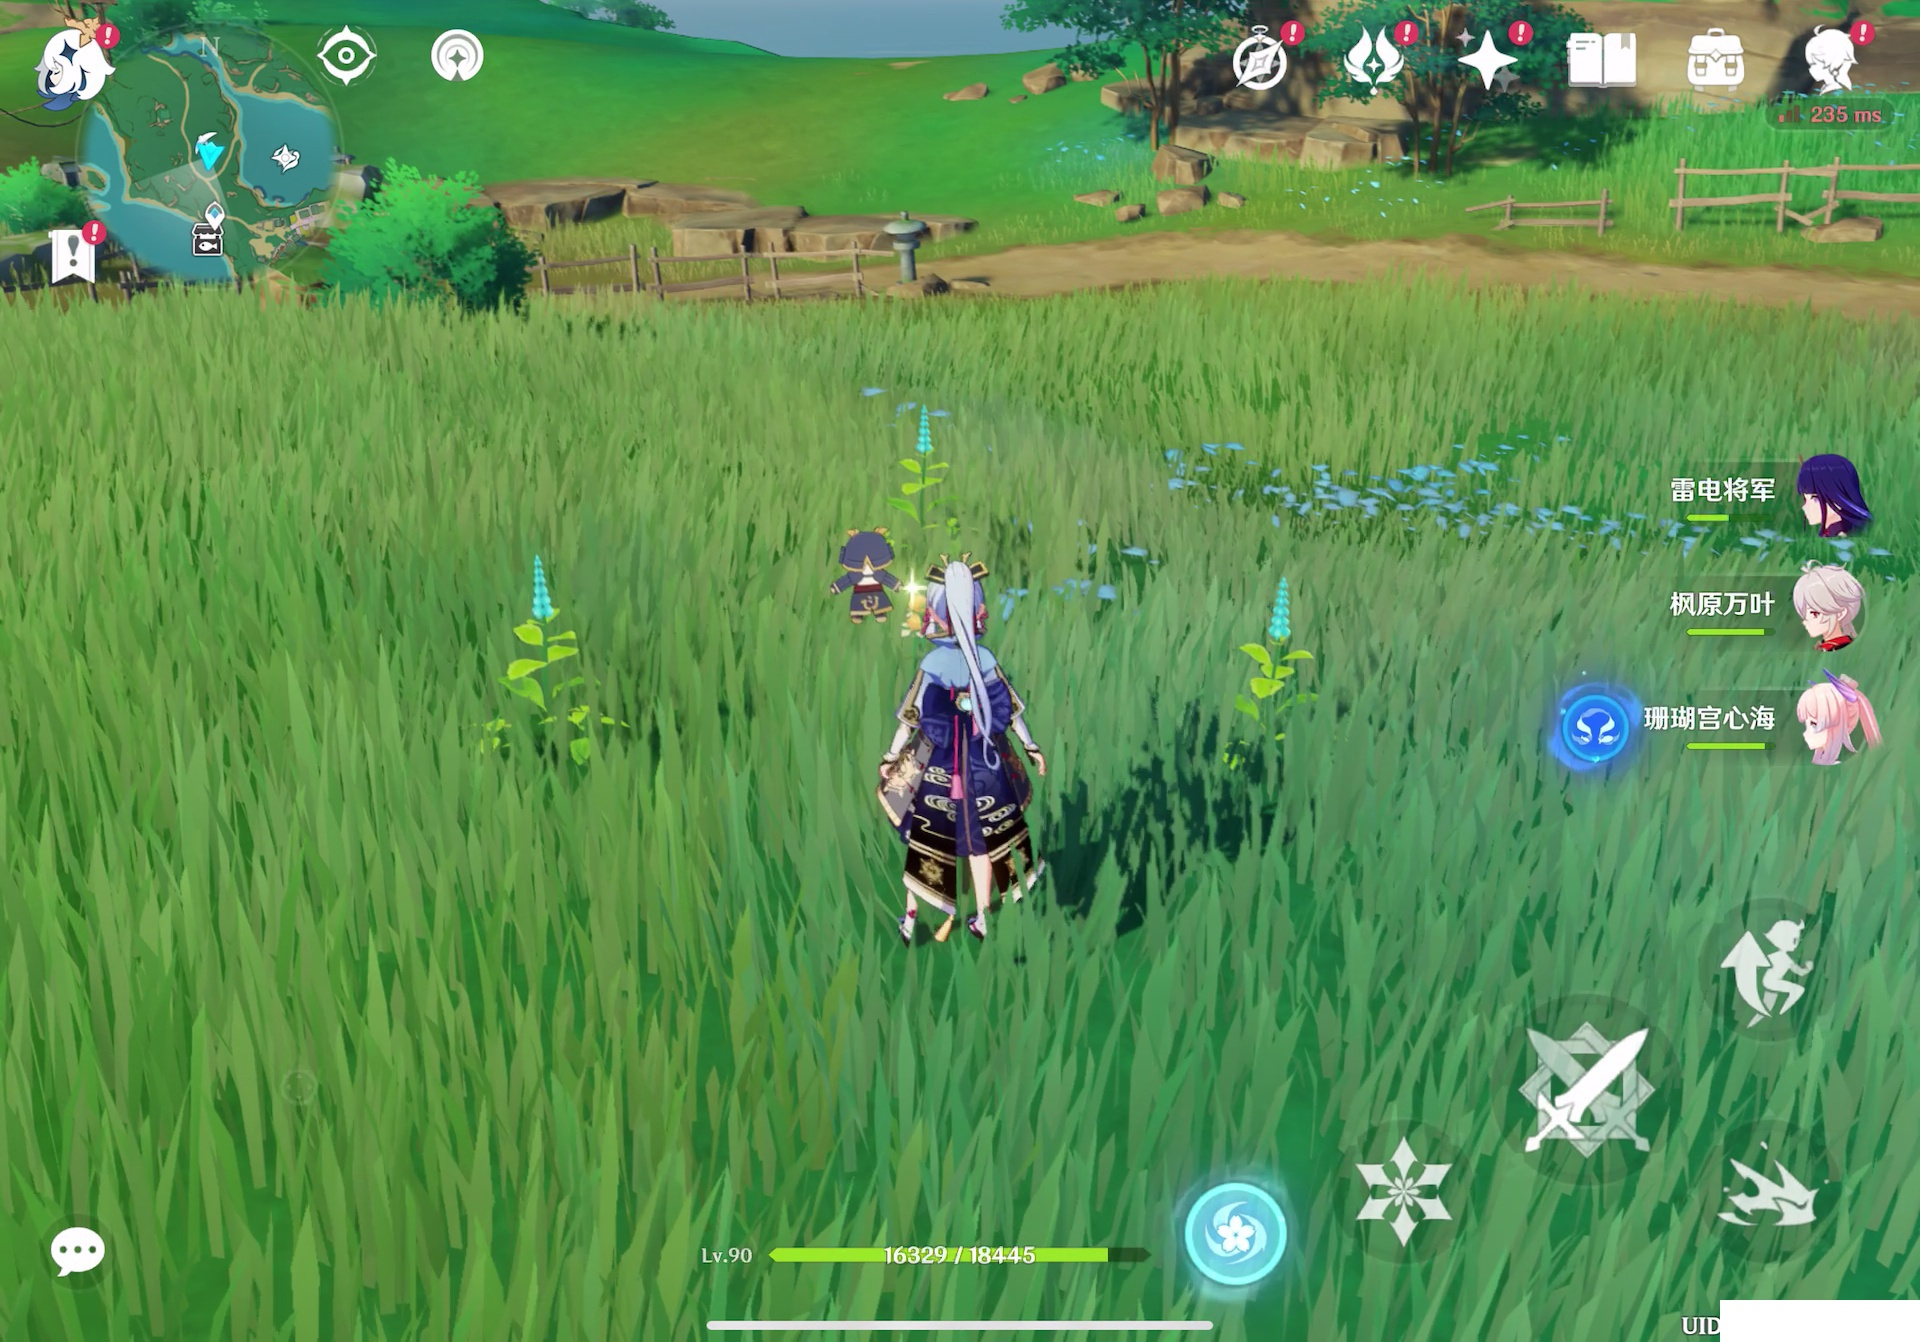没用的薄荷: (498, 560, 636, 775), (1220, 578, 1325, 786), (877, 400, 967, 540)
神里绫龟: (891, 560, 1049, 953)
